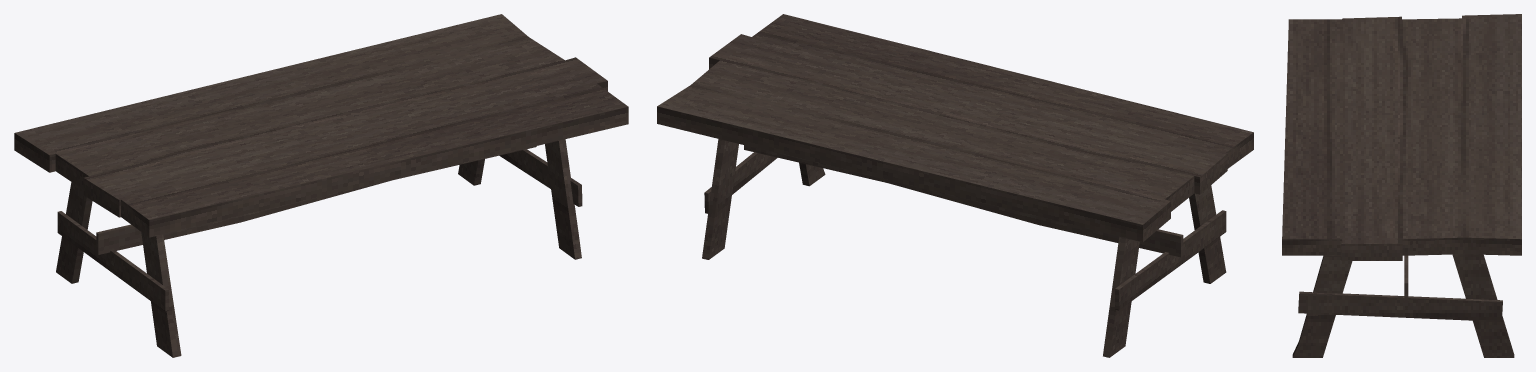
The model's file is table.glb.
The picture shows the model from 3 angles, left to right: view 1: azimuth 30°, elevation 25°; view 2: azimuth 150°, elevation 25°; view 3: azimuth 270°, elevation 25°; orthographic projection. The views are drawn at different scales.
Visible parts, largest first — view 1: table; view 2: table; view 3: table.
Boxes of the visible parts, bbox=[...] form: table: bbox=[14, 14, 628, 357]; table: bbox=[657, 14, 1253, 357]; table: bbox=[1282, 14, 1521, 357].
Size of the model in its own units: 3.14 by 0.8767 by 1.38.
Materials: 1 (1 with a texture image).
